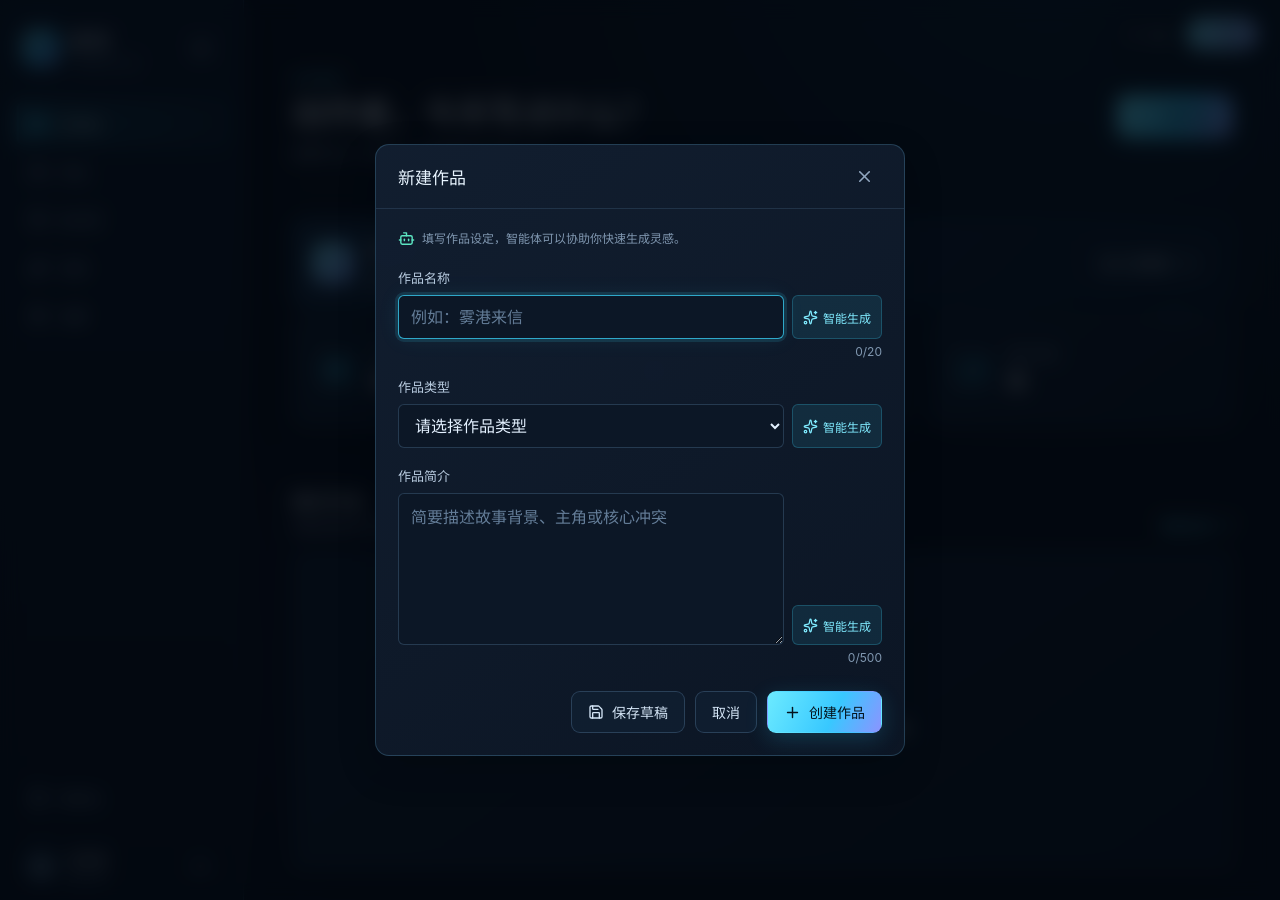
Test: 新建作品入口 › 弹窗提供名称、简介和类型的智能生成按钮
The image size is (1280, 900).
Expected: the button named "智能生成作品简介" is shown, [792,605,882,645]
Expected: the button named "智能生成作品类型" is shown, [792,404,882,448]
Click the button named "智能生成作品名称": (837, 317) [792,295,882,339]
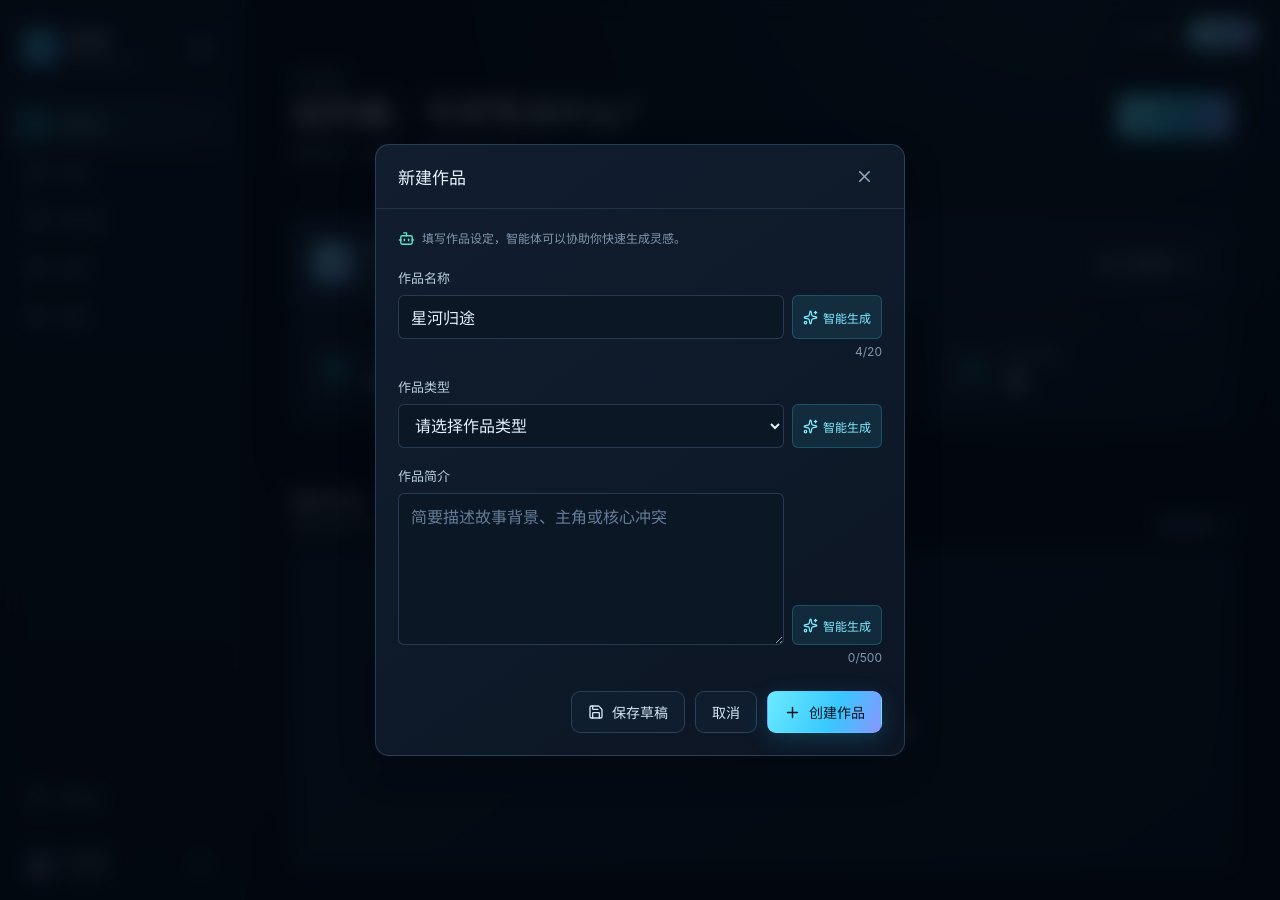
Click the button named "智能生成作品简介": (837, 625) [792,605,882,645]
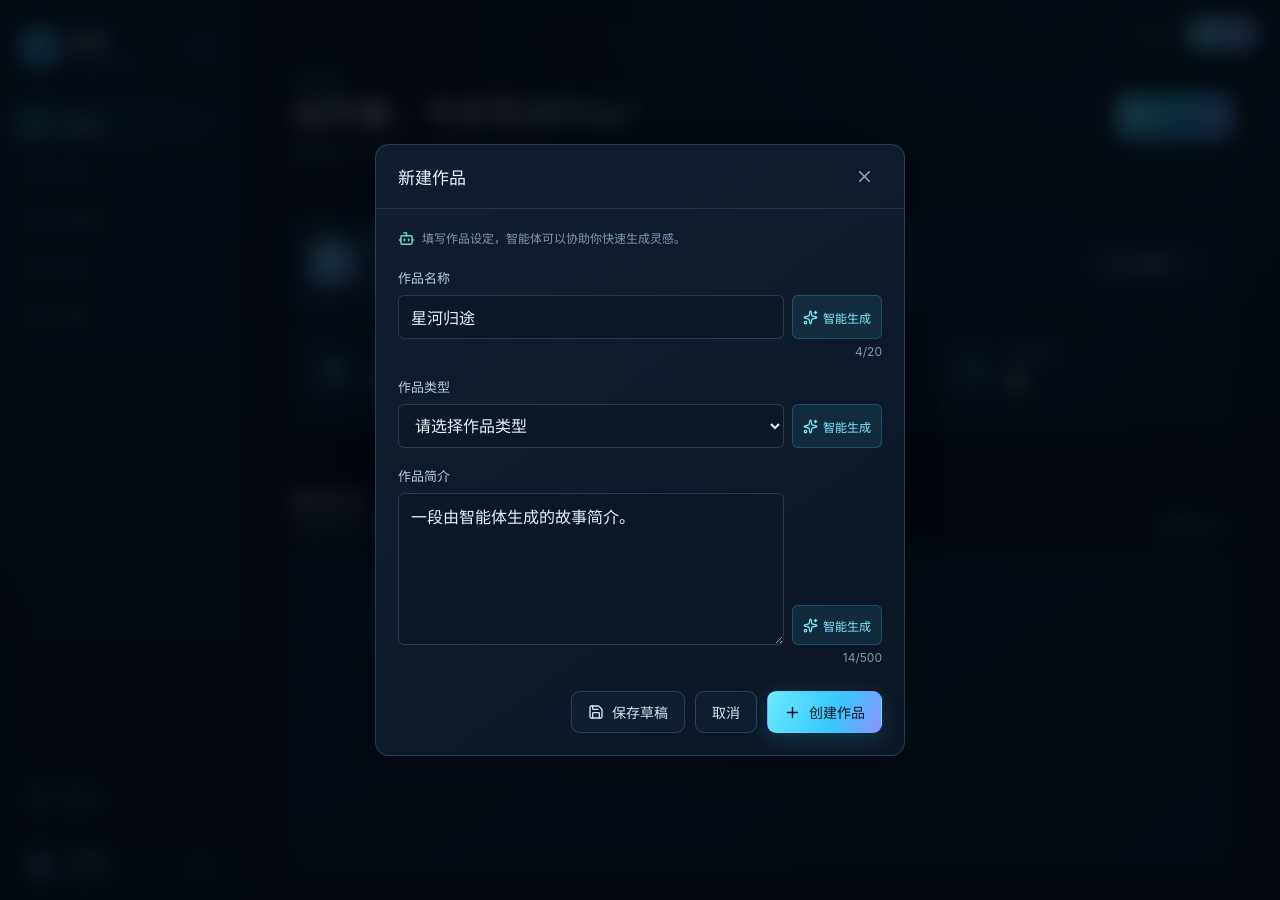
Click the button named "智能生成作品类型": (837, 426) [792,404,882,448]
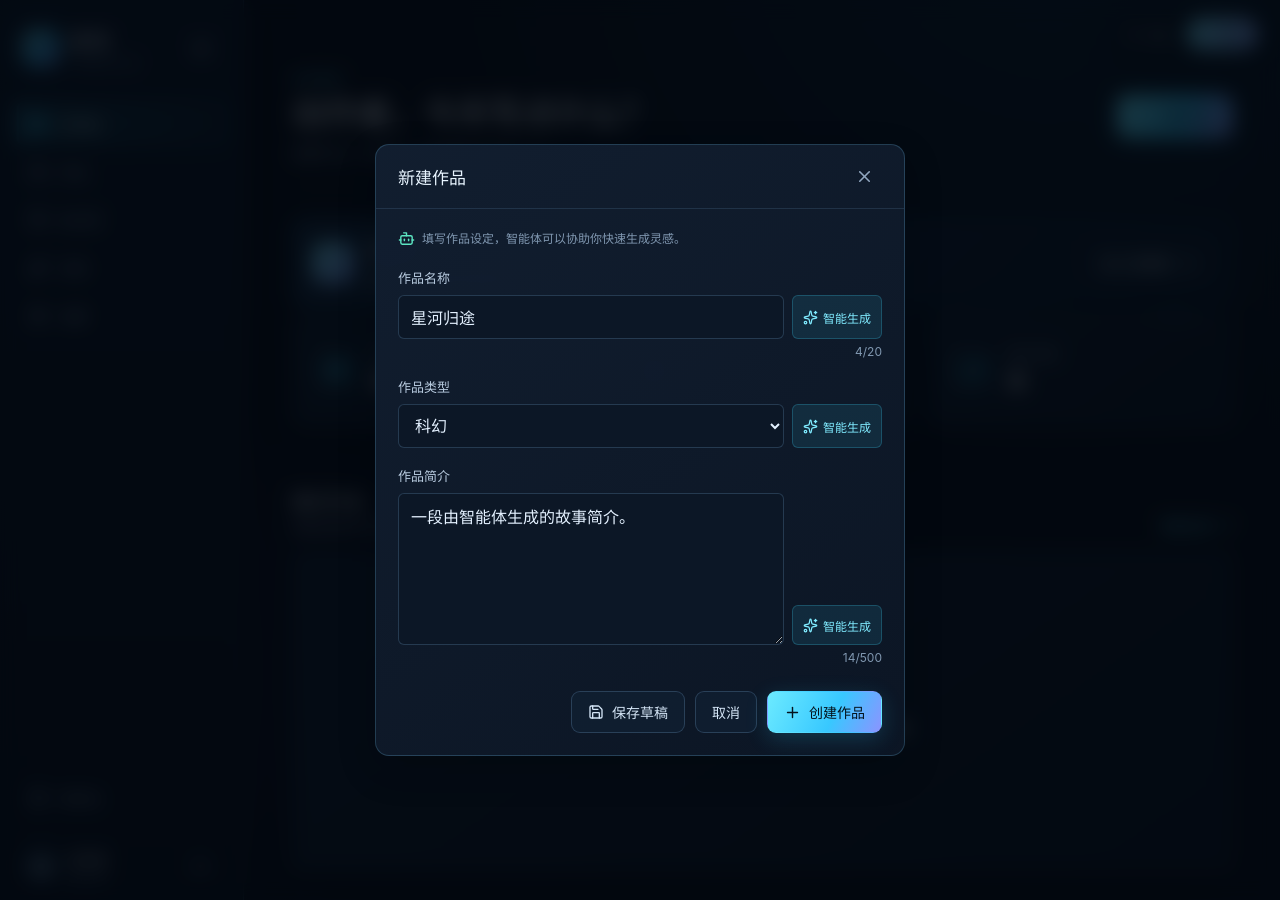
Now the field showing "星河归途" is shown, box [398,295,784,339]
Now the text box showing "一段由智能体生成的故事简介。" is shown, box [398,493,784,645]
Now the dropdown showing "科幻" is shown, box [398,404,784,448]
